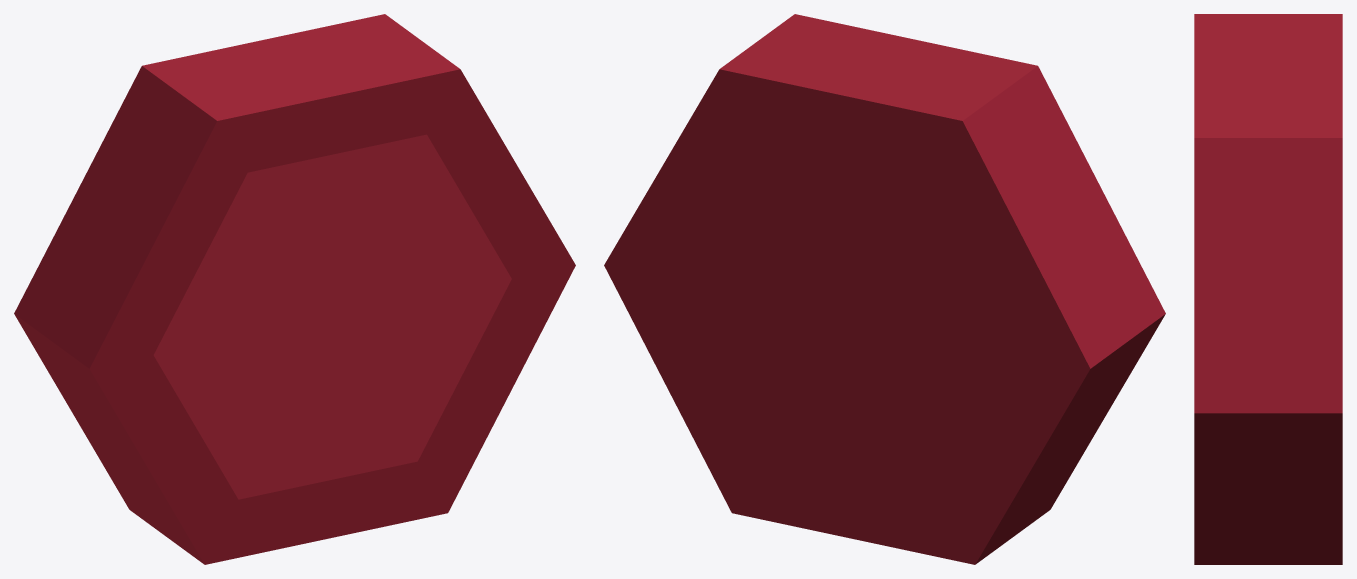
The model's file is dark_frame_0.glb.
3 renders of one model, left to right at view 1: azimuth 30°, elevation 25°; view 2: azimuth 150°, elevation 25°; view 3: azimuth 270°, elevation 25°, orthographic.
Parts seen in each view (by area): view 1: dark_frame; view 2: dark_frame; view 3: dark_frame.
Boxes of the visible parts, left/top/right/bottom form: dark_frame: left=14, top=14, right=575, bottom=564; dark_frame: left=604, top=14, right=1165, bottom=564; dark_frame: left=1194, top=14, right=1342, bottom=564.
Bounding box in the file's own units: 0.1287 × 0.1134 × 0.0346.
